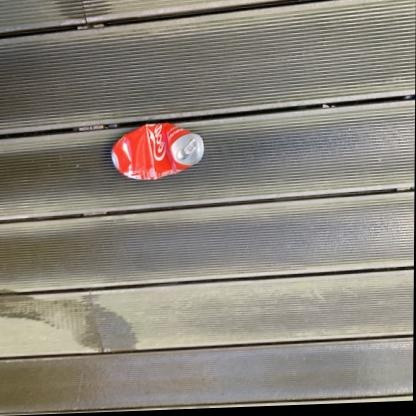trash: (112, 123, 203, 179)
